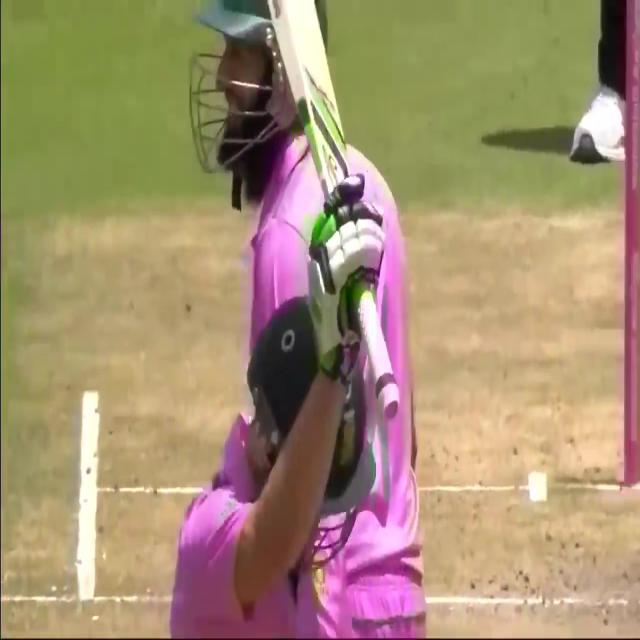Ball: (165, 23, 426, 638)
